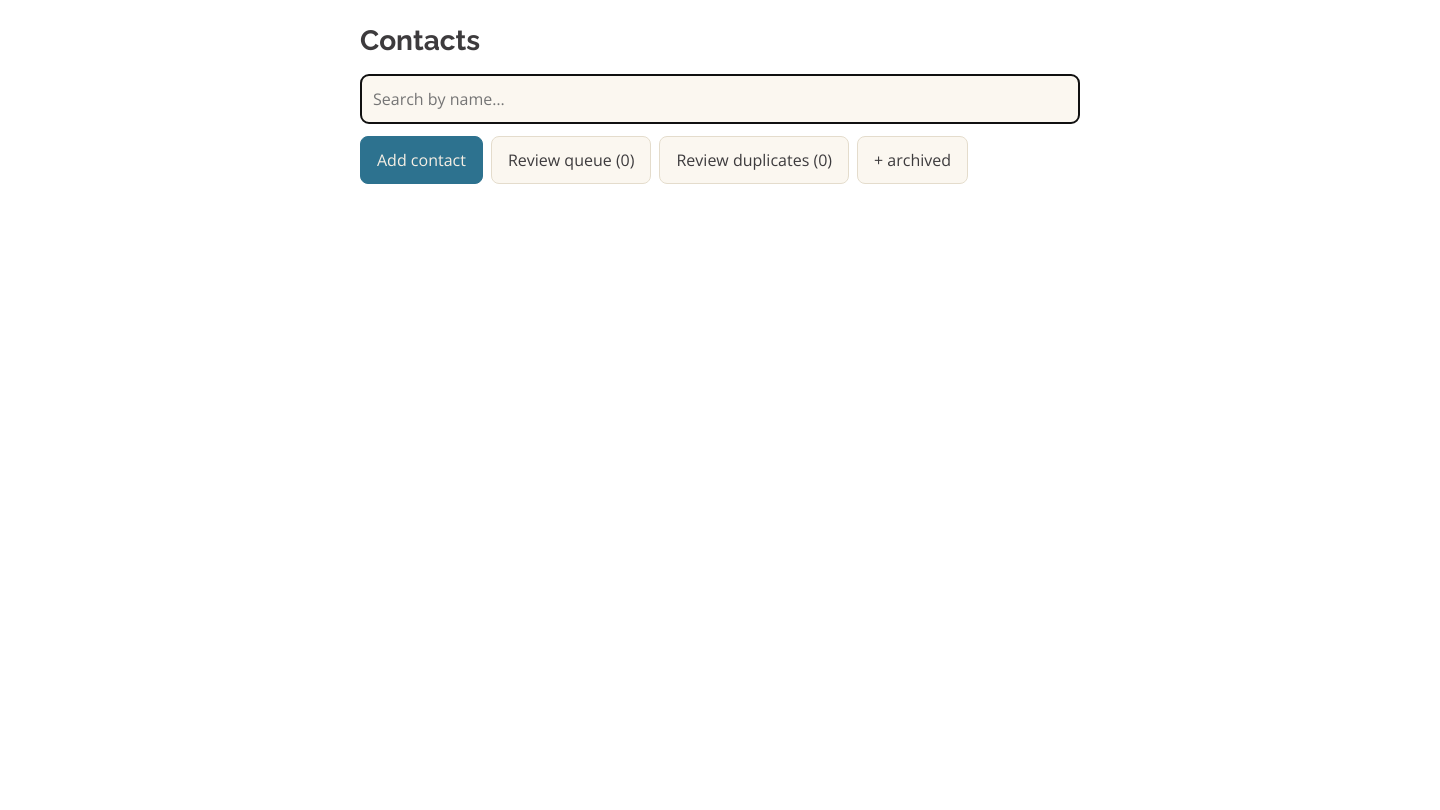
Test case: contacts launcher — review queue (feature 064) › tapping Review queue lists needs-review contacts; a row opens the editor (C10)
Click the button "Review queue (0)".
click(571, 160)  # box [491,136,652,184]
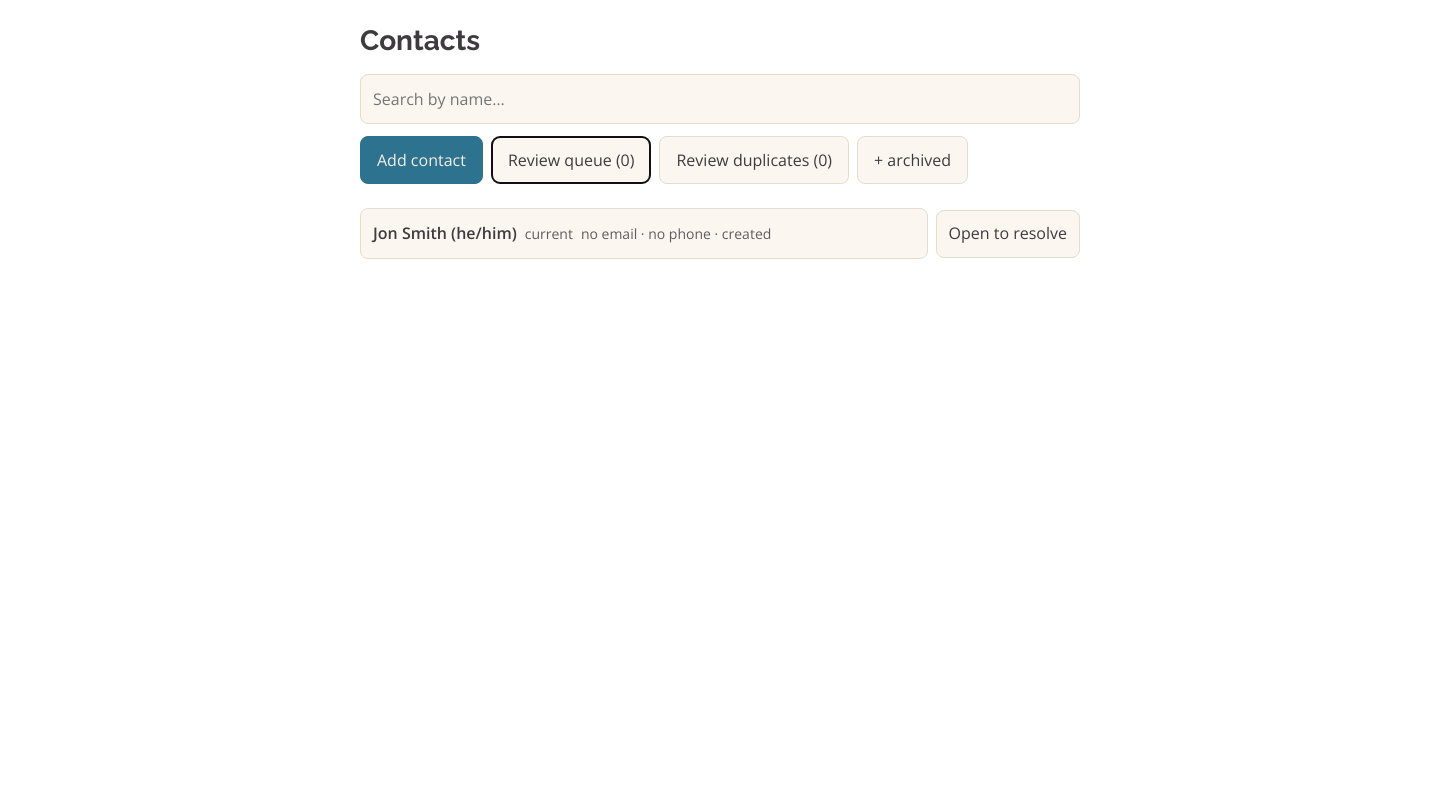
Click the button "Jon Smith (he/him) current no email · no phone · created".
click(644, 234)  # box [360,208,928,259]
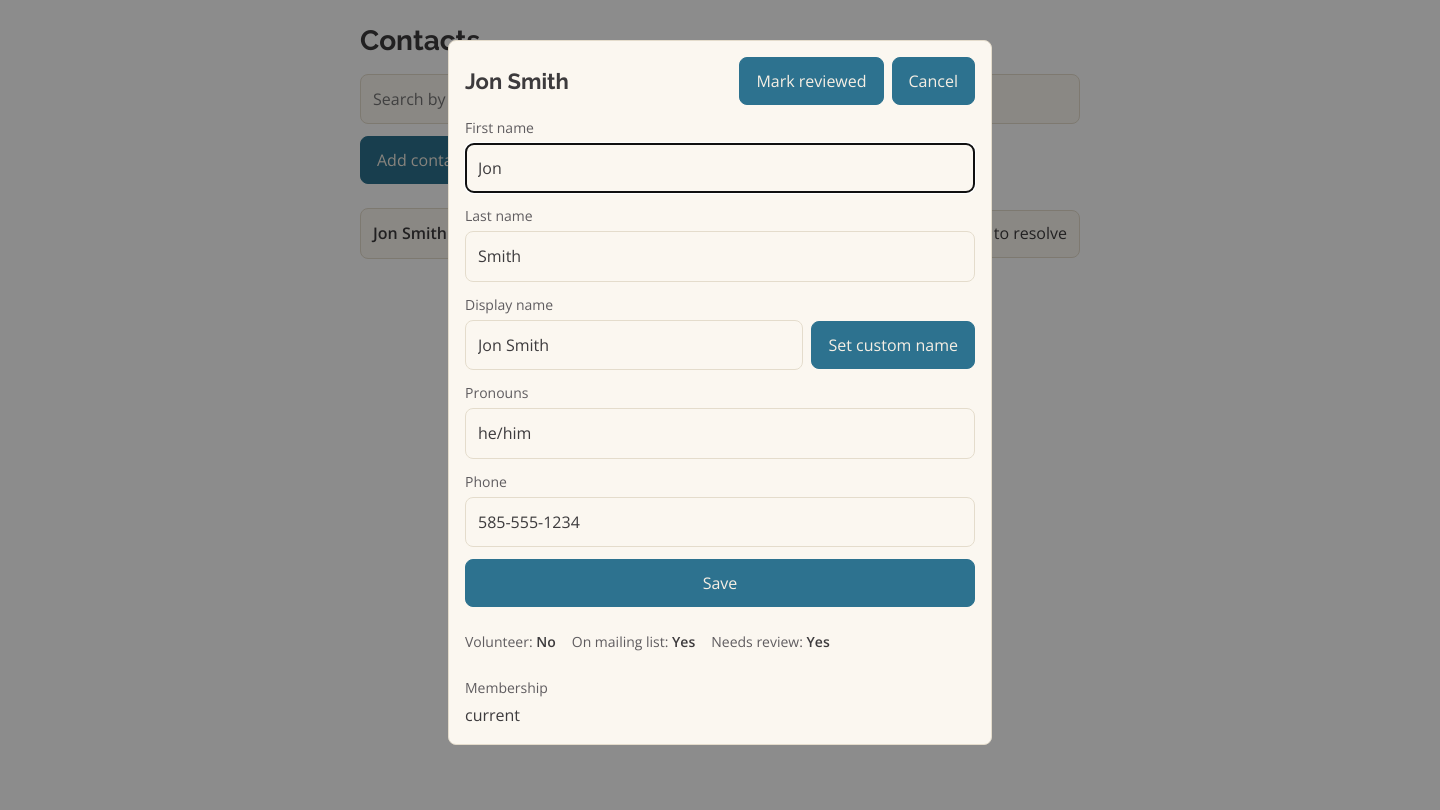
Check: the dialog "Jon Smith" is shown, box [448,40,992,745]
